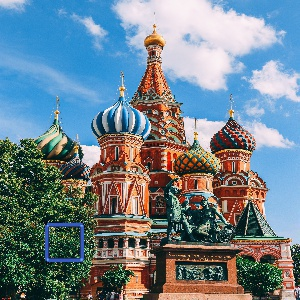square: (44, 221, 85, 264)
